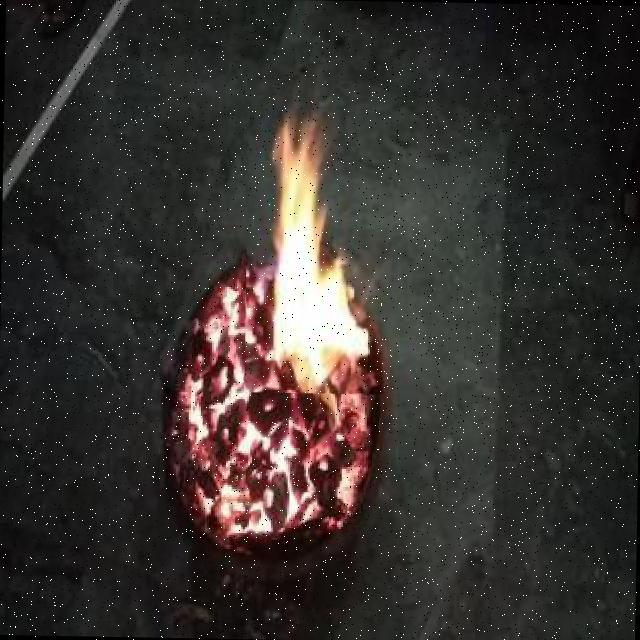fire: (244, 108, 394, 394)
